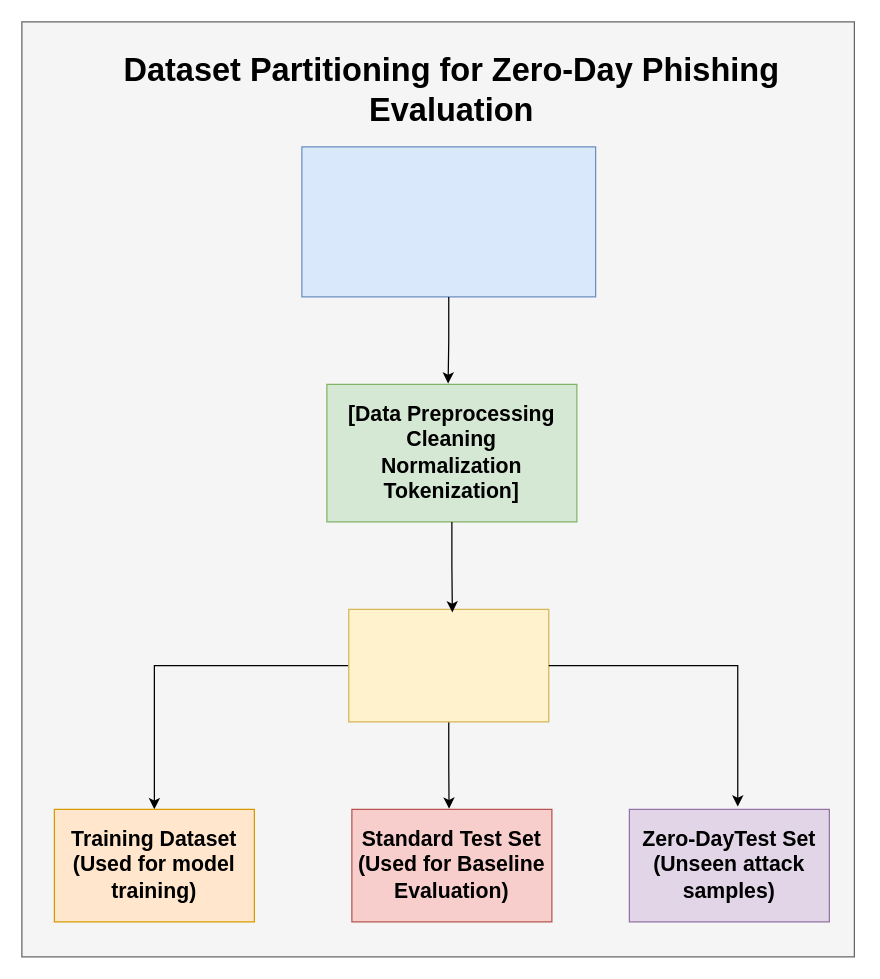
Image size: 880x979. Some labels were removed from this diagram. Each missing label, with the centre of its shape:
"[Combined Email Dataset (Enron Emails + Phishing Corpus)]" belongs at (x=448, y=221).
"Dataset Split" belongs at (x=448, y=665).
